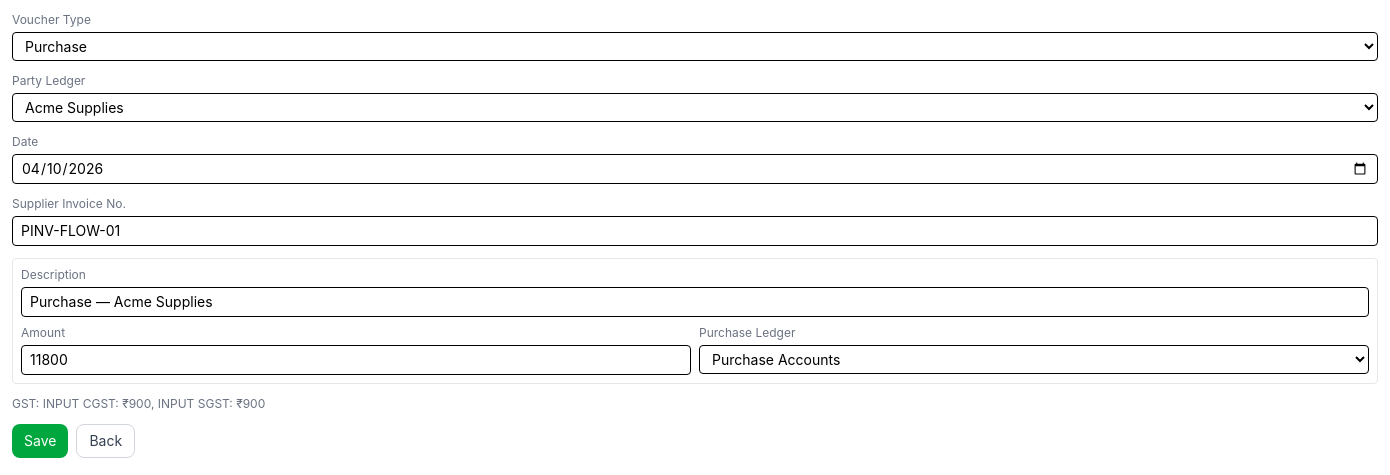
VoucherEditForm — reclassify › hides party field after reclassifying Purchase → Payment
Expected: the dropdown labelled "Party Ledger" is shown, [12,93,1378,122]
Select "Payment" in the dropdown labelled "Voucher Type" at point(695, 46), box [12,32,1378,61]
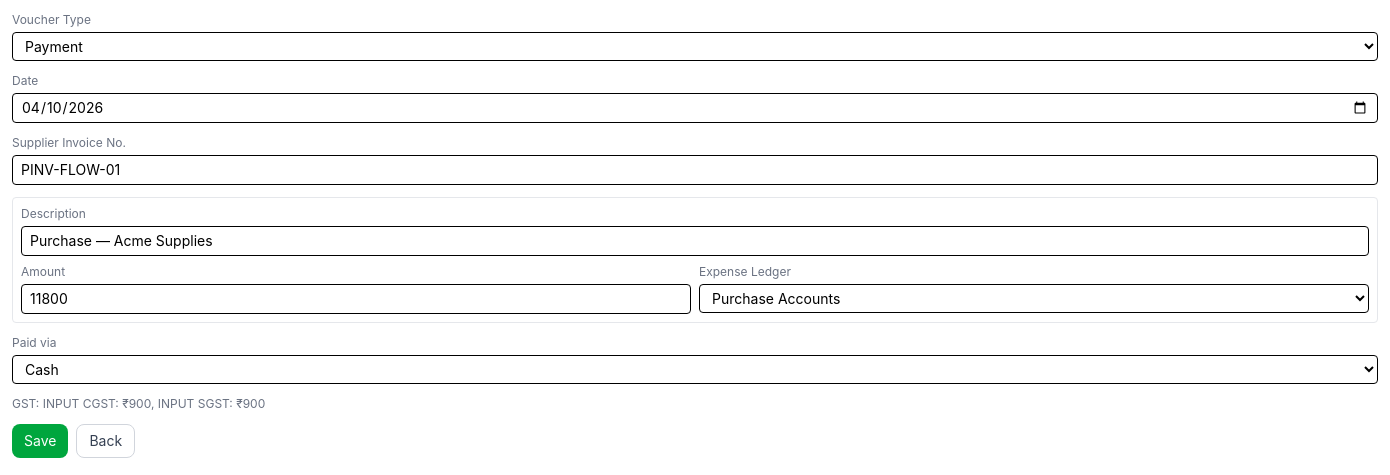
Now the label labelled "Party Ledger" is gone
